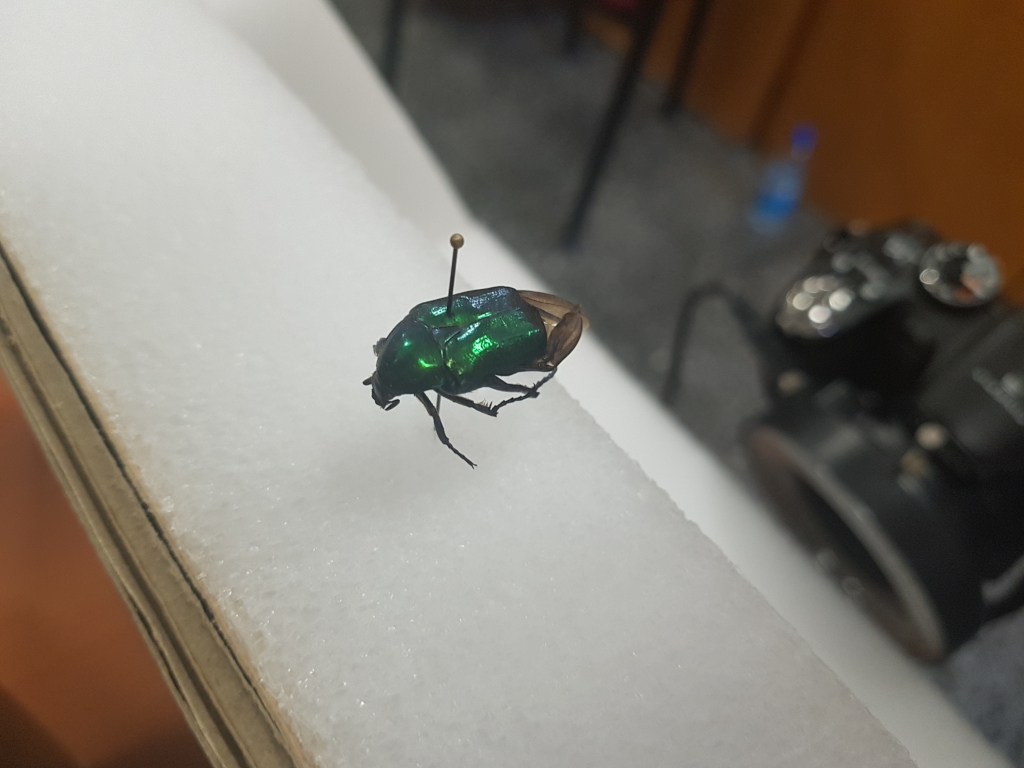Protaetia_angustata_angustata: (354, 277, 602, 471)
